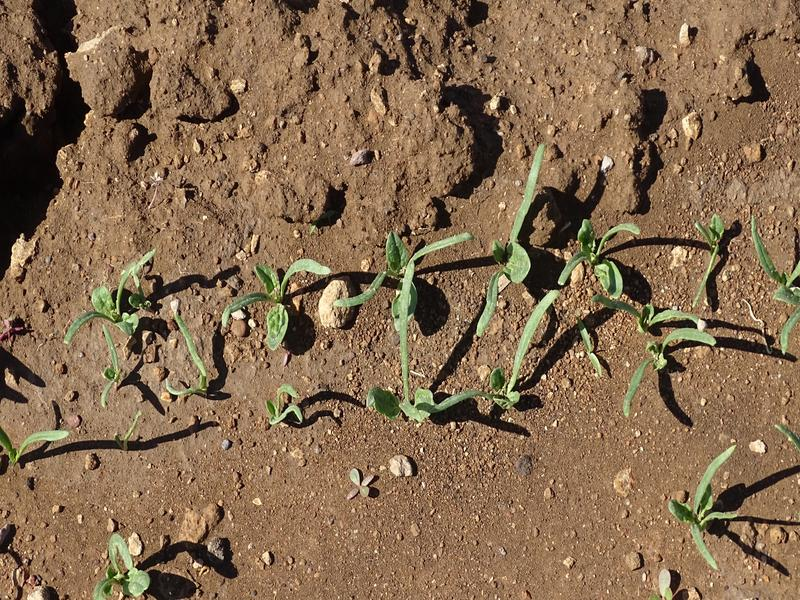Espinaca: (64, 195, 800, 405), (664, 447, 739, 566), (95, 540, 154, 598), (1, 418, 77, 462)
